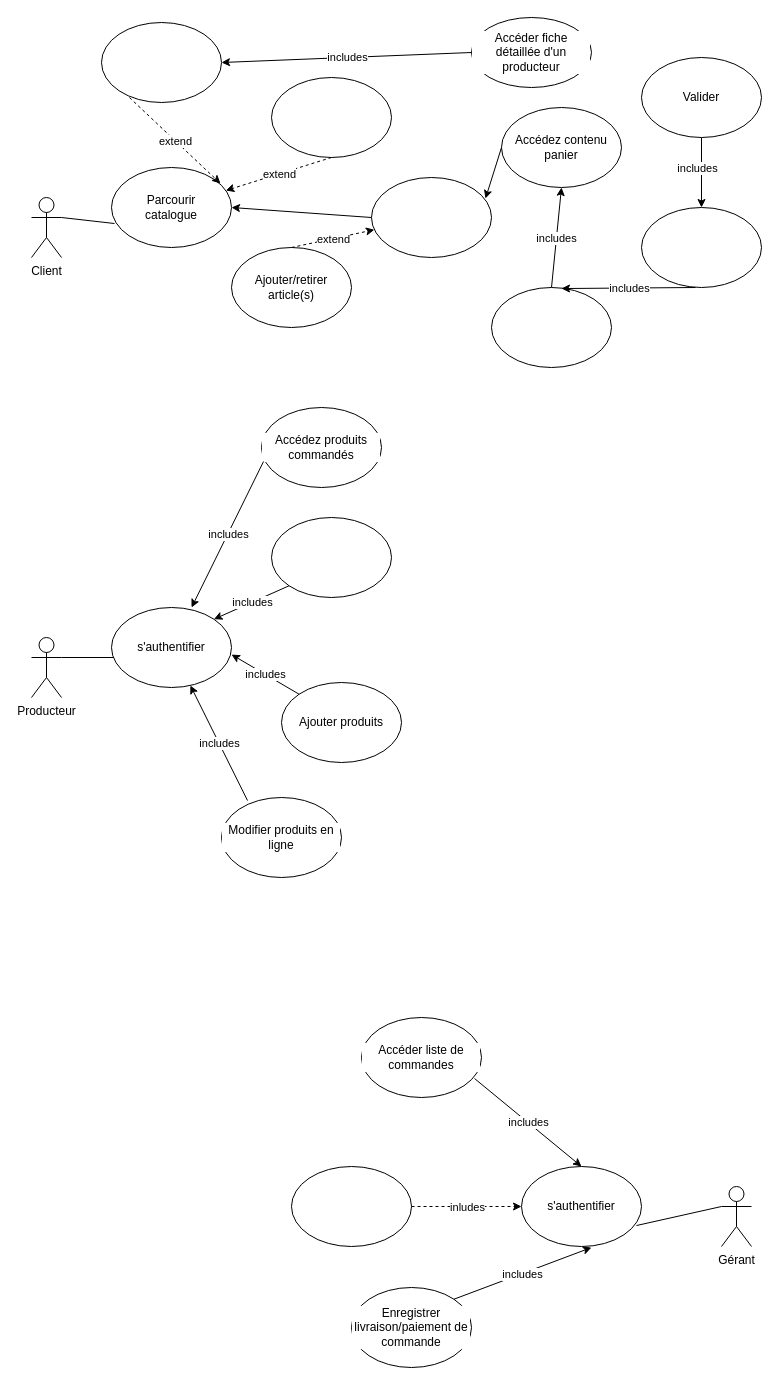
Image size: 779x1385. Some labels were removed from this diagram. Here are the shapes that lost their labels. From the top down, the box of each, then its label:
(100, 22, 222, 102): Accéder liste des producteurs
(270, 76, 392, 158): Accéder fiche détaillée produit
(370, 176, 492, 258): Ajouter dans panier
(640, 206, 762, 288): Saisir coordonnées (mail, nom-prénom, tel)
(490, 286, 612, 368): Valider commande (recap + montant)
(270, 516, 392, 598): Consulter stocks disponible
(290, 1166, 412, 1246): Consulter tableau de bord
